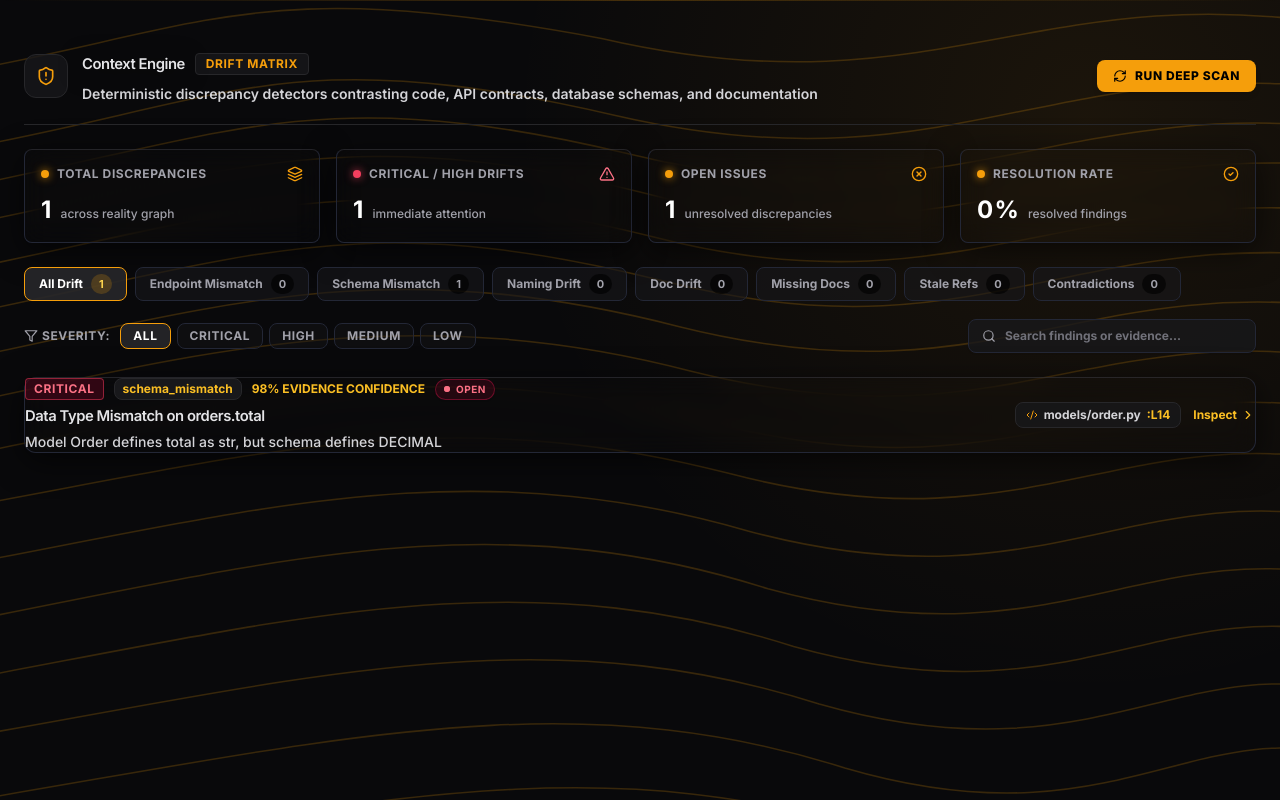
Test: ContextPage › renders discrepancy cards and opens evidence inspection modal
This screenshot has width=1280, height=800.
Check: the heading "Data Type Mismatch on orders.total" is shown, box x1=25 y1=407 x2=265 y2=425
Check: the text "98% EVIDENCE CONFIDENCE" is shown, box x1=252 y1=381 x2=425 y2=397
Click on inspect
Click the button "Inspect" at x=1224, y=415, box x1=1193 y1=407 x2=1255 y2=423
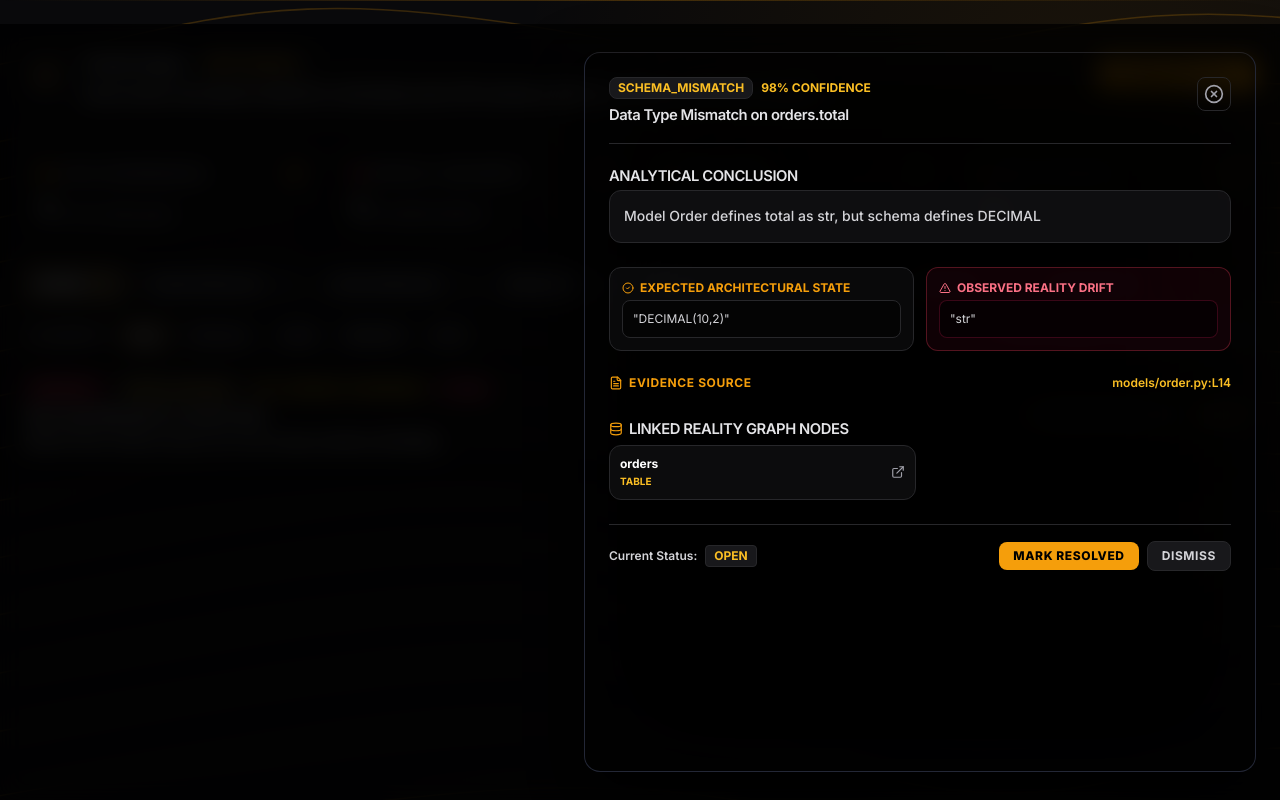
Check: the heading "Analytical Conclusion" is shown, box x1=609 y1=167 x2=798 y2=185
Check: the text "Expected Architectural State" is shown, box x1=622 y1=280 x2=850 y2=295
Check: the text "Observed Reality Drift" is shown, box x1=939 y1=280 x2=1114 y2=295
